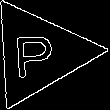P_N: (16, 27, 61, 80)
